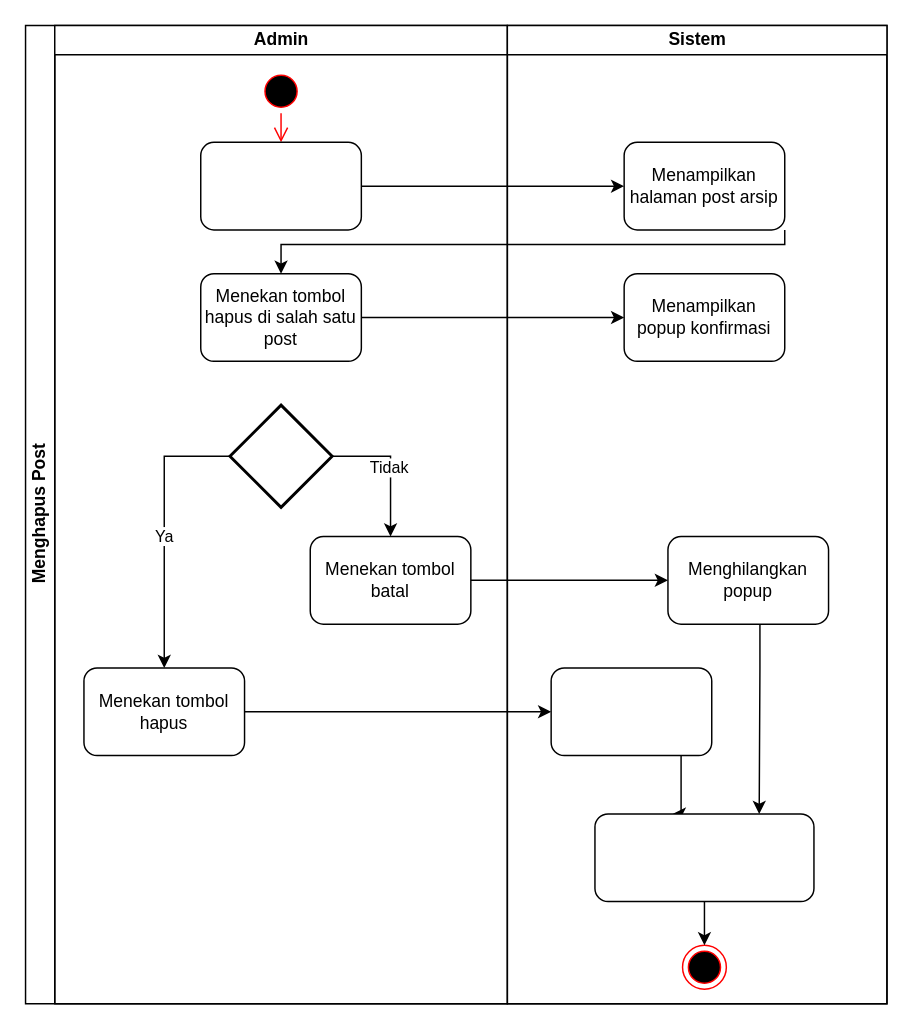
Some shapes in this 913 by 1029 pixel diagram are drawn without their labels. Here are the shapes that lost their labels. From the top down, the centre of each, then its label:
At pixel 280 185: "Membuka halaman post arsip".
At pixel 280 455: "Hapus?".
At pixel 631 711: "Menghapus data".
At pixel 703 857: "Kembali menampilkan hal. post arsip dengan pesan berhasil/gagal/error".
